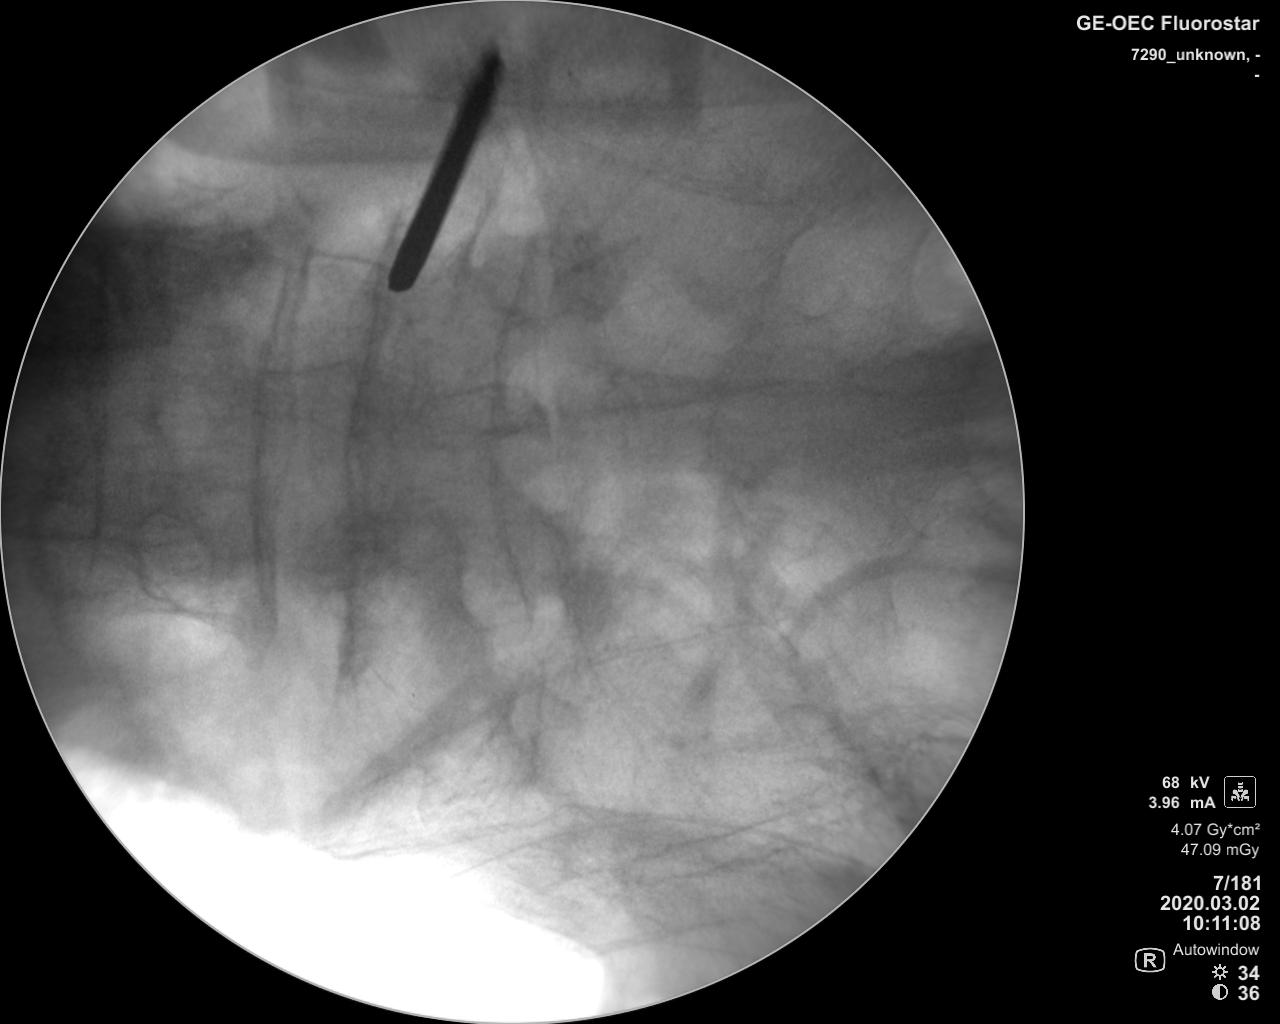eyes: (124, 511, 215, 599)
line: (338, 219, 391, 706), (488, 223, 536, 628), (249, 255, 290, 637), (79, 237, 120, 543)
nose: (242, 360, 393, 429), (415, 379, 546, 438)
